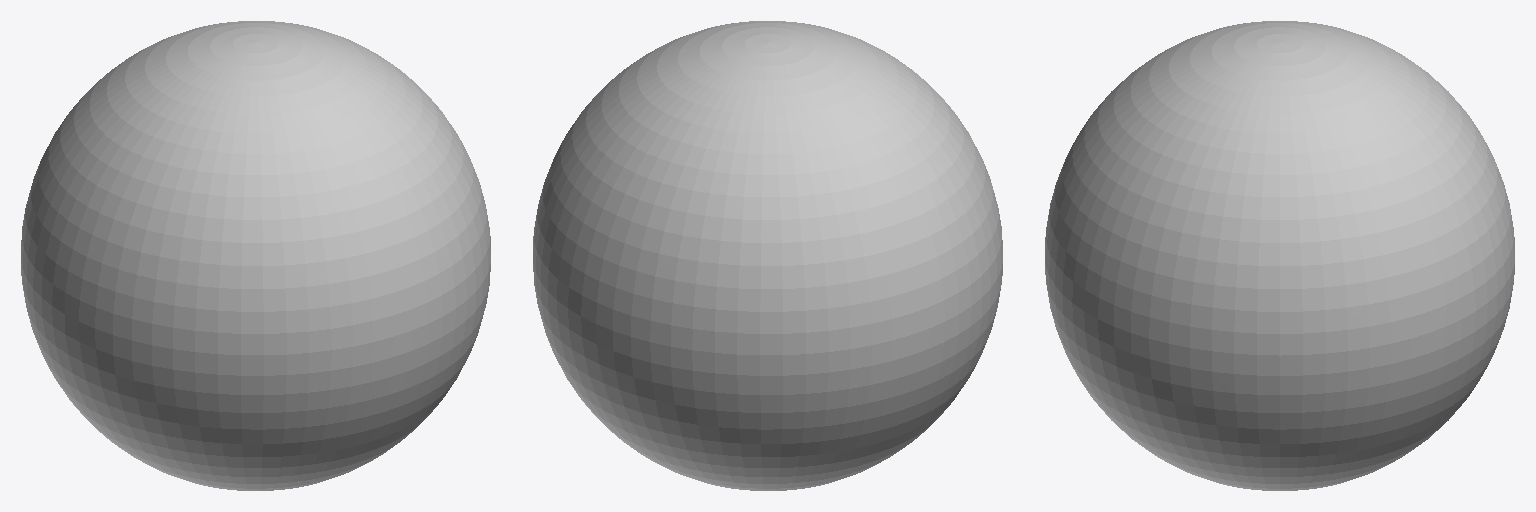
The model's file is Hole.obj.
3 views of the same model, side by side, from view 1: azimuth 30°, elevation 25°; view 2: azimuth 150°, elevation 25°; view 3: azimuth 270°, elevation 25° (orthographic).
Parts seen in each view (by area): view 1: Sphere; view 2: Sphere; view 3: Sphere.
Boxes of the visible parts, <box> form: Sphere: <box>21,21,490,490</box>; Sphere: <box>533,21,1002,490</box>; Sphere: <box>1045,21,1514,490</box>.
Bounding box in the file's own units: 2 × 2 × 2.